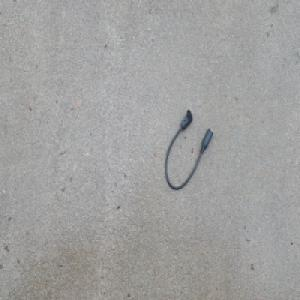Wire: (163, 108, 213, 191)
